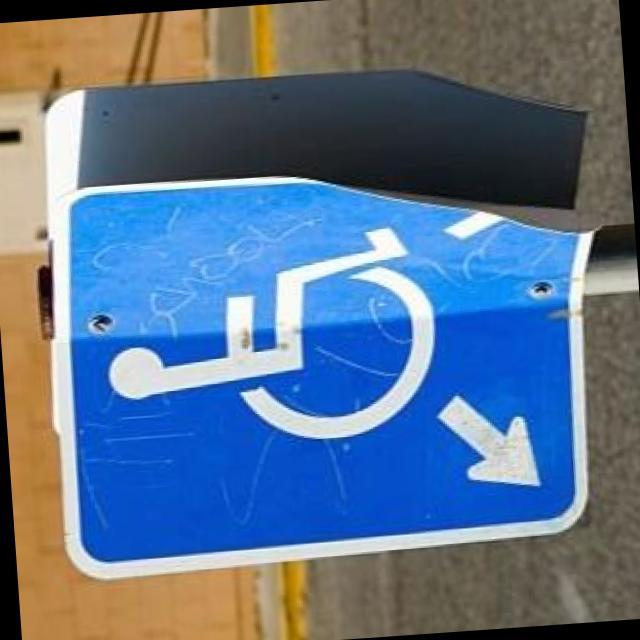obstructed_road_sign: (51, 177, 592, 580)
